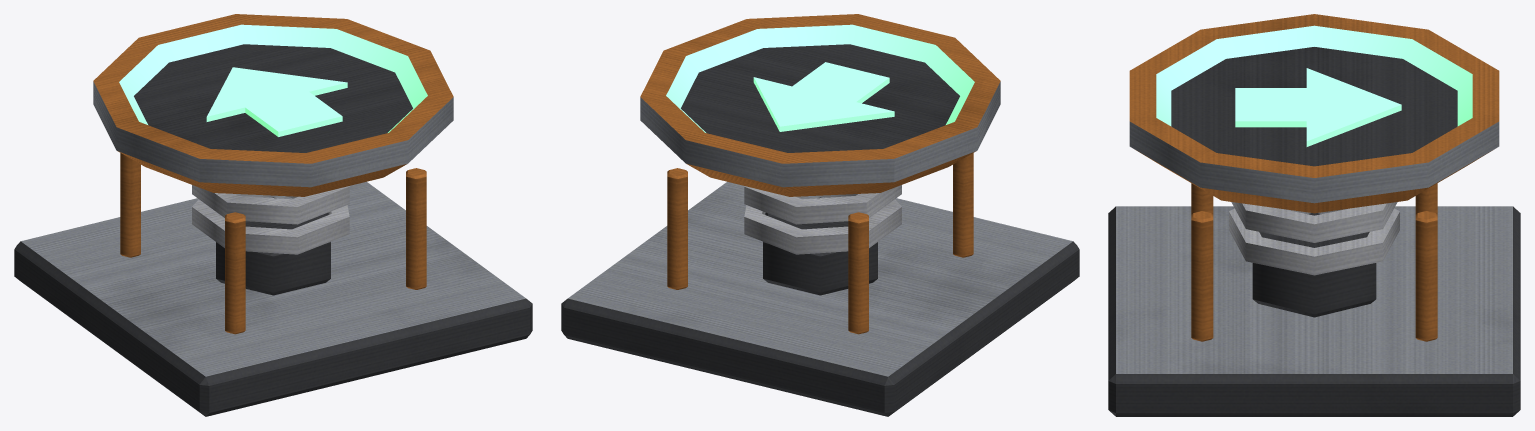
File: R4X_JumpPadDeployer_LOD1.glb
3 views of the same model, side by side, from view 1: azimuth 30°, elevation 25°; view 2: azimuth 150°, elevation 25°; view 3: azimuth 270°, elevation 25° (orthographic). The views are drawn at different scales.
Visible parts, largest first — view 1: R4X_JumpPadDeployer_LOD1; view 2: R4X_JumpPadDeployer_LOD1; view 3: R4X_JumpPadDeployer_LOD1.
Boxes of the visible parts, left/top/right/bottom form: R4X_JumpPadDeployer_LOD1: left=14, top=14, right=532, bottom=416; R4X_JumpPadDeployer_LOD1: left=561, top=14, right=1079, bottom=416; R4X_JumpPadDeployer_LOD1: left=1108, top=14, right=1520, bottom=416.
Size of the model in its own units: 0.52 by 0.33 by 0.52.
5 materials, 4 textured.
